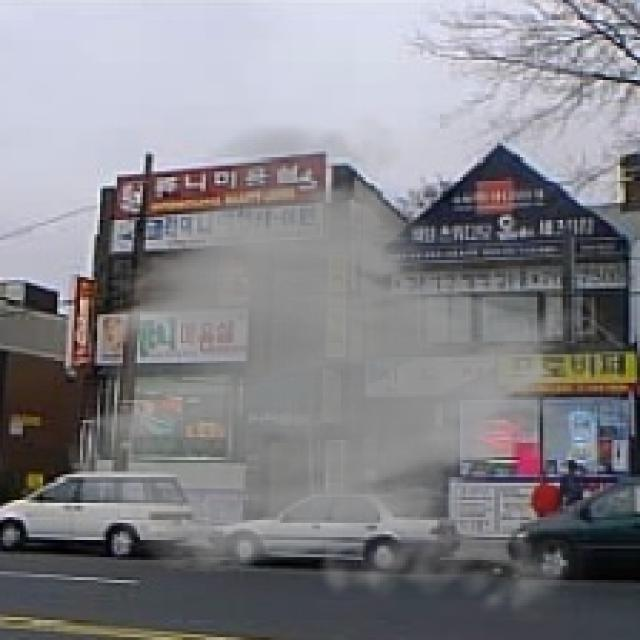Smoke: (63, 111, 623, 628)
